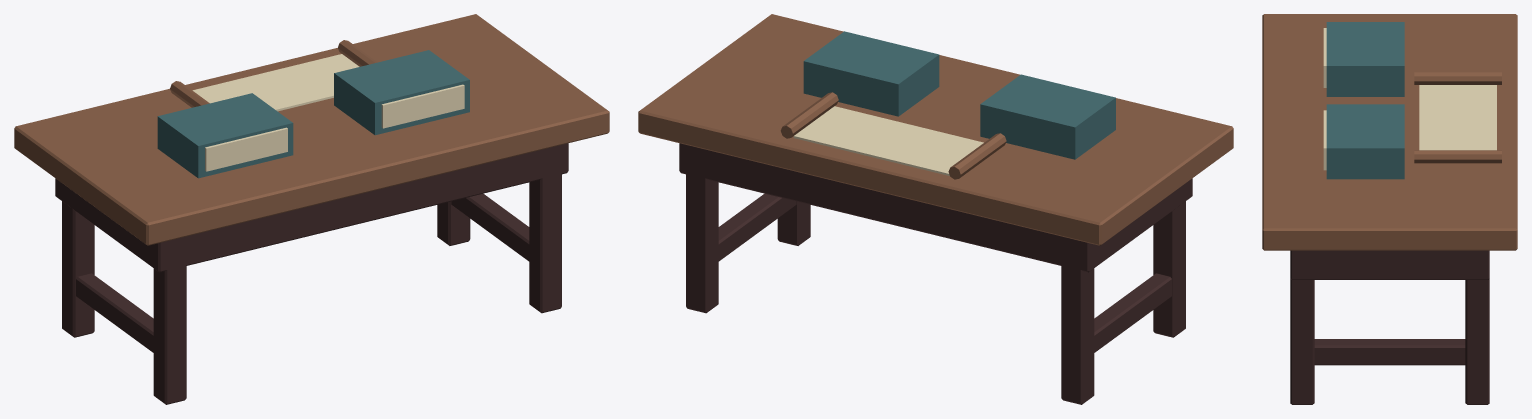
Rendered from reading_table.glb.
3 renders of one model, left to right at view 1: azimuth 30°, elevation 25°; view 2: azimuth 150°, elevation 25°; view 3: azimuth 270°, elevation 25°, orthographic. The views are drawn at different scales.
Parts seen in each view (by area): view 1: reading_table_Cedar, reading_table_Timber, reading_table_Fabric, reading_table_Plaster; view 2: reading_table_Cedar, reading_table_Timber, reading_table_Fabric, reading_table_Plaster; view 3: reading_table_Cedar, reading_table_Timber, reading_table_Fabric, reading_table_Plaster.
Boxes of the visible parts, x1,y1,x2,y2 form: reading_table_Cedar: (14,14,609,245); reading_table_Timber: (55,143,568,404); reading_table_Fabric: (157,50,469,178); reading_table_Plaster: (192,54,464,171); reading_table_Cedar: (638,14,1233,245); reading_table_Timber: (679,143,1192,404); reading_table_Fabric: (803,31,1115,159); reading_table_Plaster: (793,106,983,175); reading_table_Cedar: (1262,14,1517,250); reading_table_Timber: (1290,250,1489,404); reading_table_Fabric: (1326,22,1404,179); reading_table_Plaster: (1323,28,1496,170).
Bounding box in the file's own units: 2.1 × 1.01 × 1.05.
